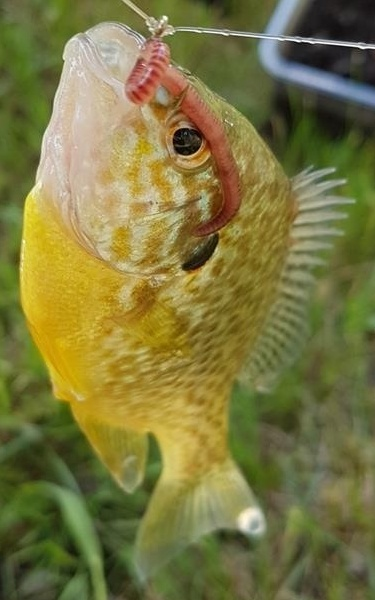Lepomis gibbosus: (20, 20, 355, 580)
